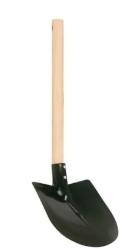PELLE: (4, 2, 125, 247)
